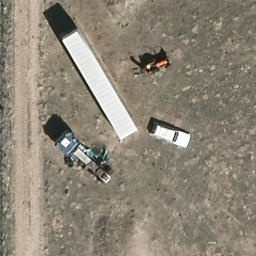car: (151, 122, 194, 149)
truck: (52, 130, 114, 187)
